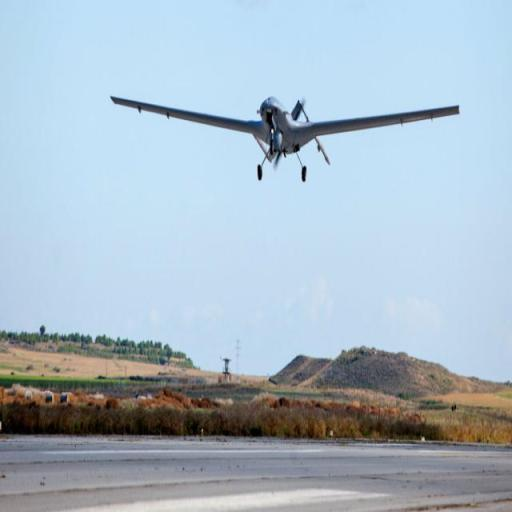uav: (106, 70, 512, 188)
